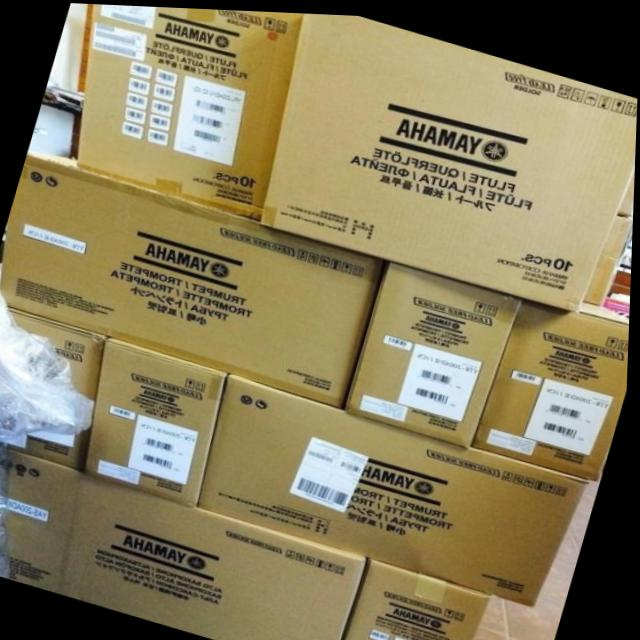box: (261, 11, 638, 305), (4, 154, 387, 406), (196, 371, 590, 604), (63, 475, 372, 640), (78, 3, 303, 218), (348, 257, 524, 446), (477, 294, 632, 478), (86, 338, 227, 504), (346, 556, 493, 640), (11, 451, 85, 590), (11, 310, 108, 398), (584, 211, 634, 299), (616, 163, 636, 212)
